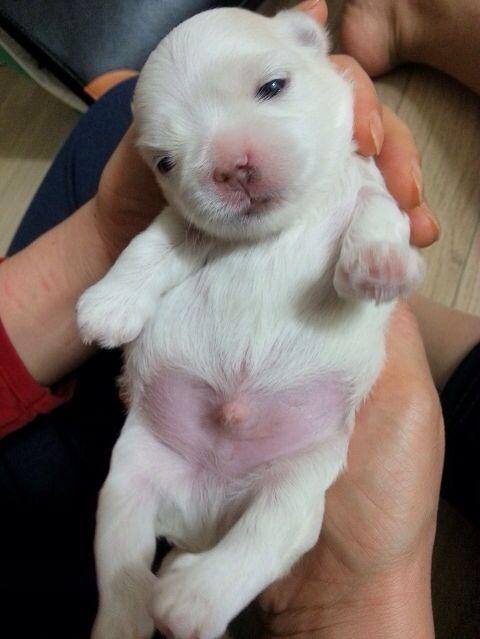puppy-dog: (73, 5, 427, 639)
